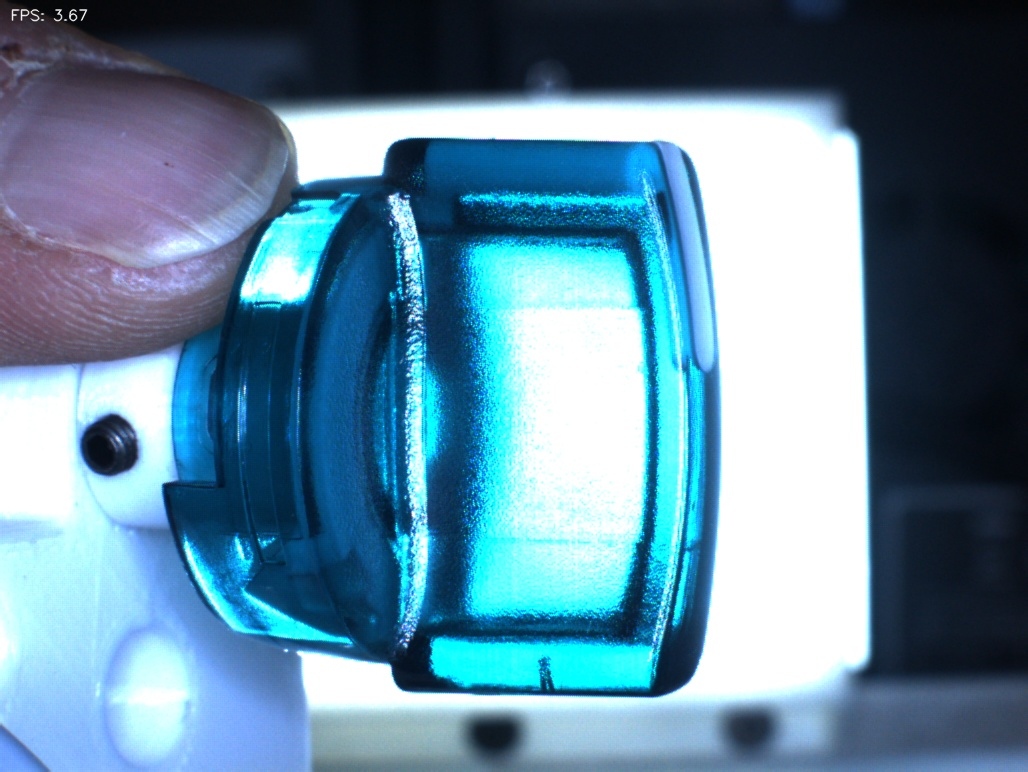Bulle: (496, 635, 604, 732)
